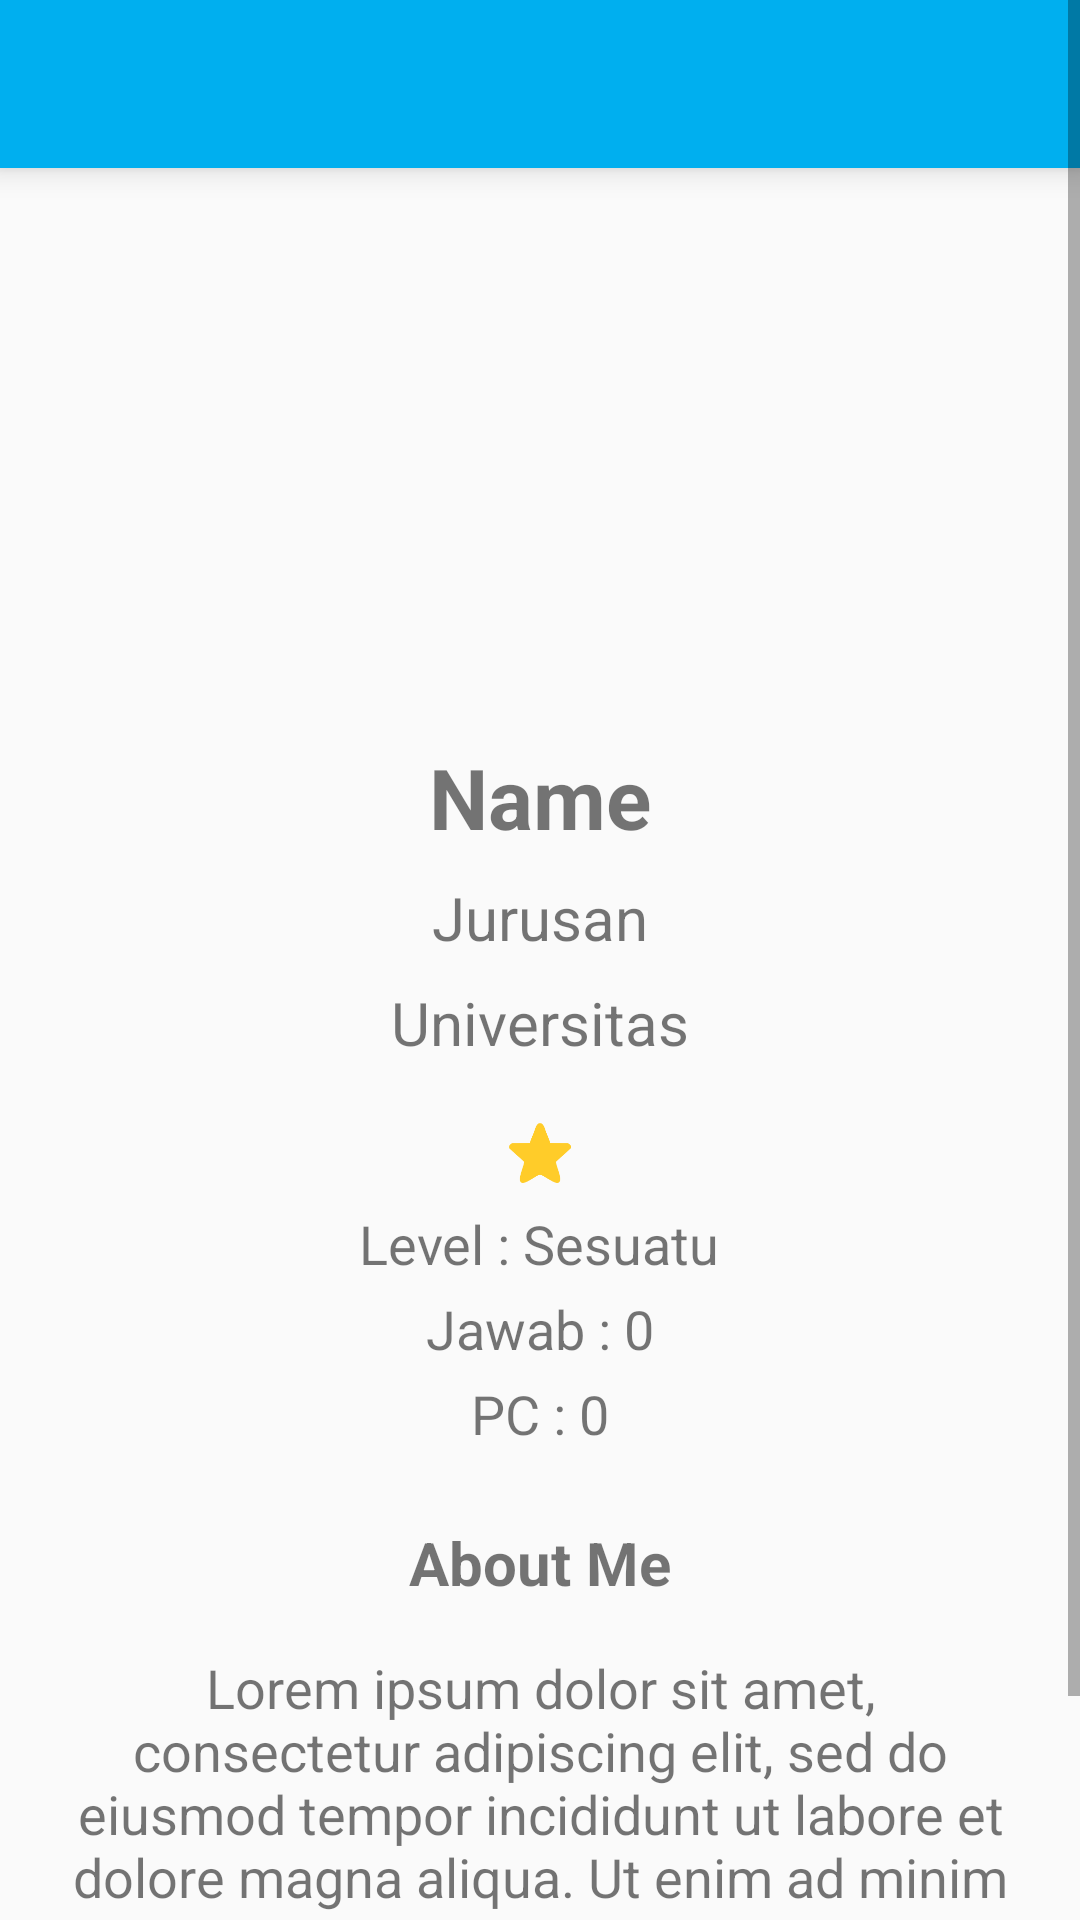

Where to tap for icons on this 1080×1920 app screen, as (x=x, y=y):
star: (x=540, y=1153)
